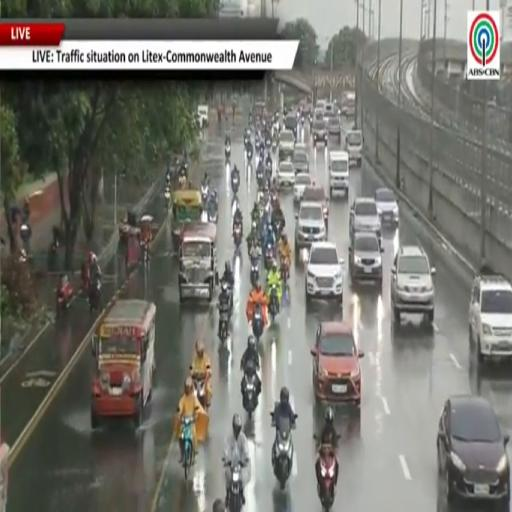car: (437, 395, 510, 510), (311, 322, 363, 405), (469, 272, 511, 362), (391, 246, 435, 325), (305, 242, 344, 302), (349, 232, 383, 287), (295, 201, 326, 254), (349, 198, 381, 243), (302, 184, 329, 228), (329, 151, 349, 198), (375, 188, 399, 227), (345, 131, 363, 166), (294, 173, 312, 202), (277, 160, 295, 186), (312, 120, 328, 147), (279, 131, 294, 159), (292, 149, 309, 173), (328, 115, 341, 140), (284, 115, 297, 140), (197, 105, 208, 127), (295, 142, 308, 153), (316, 100, 326, 113), (314, 109, 323, 120), (325, 103, 333, 114)
jeepney: (91, 299, 156, 428), (179, 222, 218, 302), (173, 189, 202, 251)
motorcycle: (271, 412, 293, 489), (318, 453, 336, 511), (225, 461, 242, 511), (243, 363, 258, 417), (180, 418, 193, 479), (56, 281, 73, 315), (88, 279, 101, 313), (252, 304, 263, 341), (194, 378, 206, 408), (269, 284, 278, 323), (20, 221, 31, 252), (264, 243, 276, 271), (219, 311, 229, 343), (47, 242, 58, 271), (280, 260, 289, 286), (233, 223, 242, 248), (251, 258, 259, 286), (141, 242, 149, 265), (231, 172, 239, 194), (201, 185, 209, 206), (256, 166, 264, 187), (164, 187, 170, 213), (208, 208, 218, 223), (274, 219, 282, 237), (270, 190, 278, 206), (266, 160, 272, 179), (255, 136, 261, 152), (225, 143, 230, 161), (247, 147, 253, 161), (259, 146, 264, 162), (265, 137, 271, 149), (272, 138, 277, 151), (244, 136, 249, 149), (248, 114, 253, 125), (247, 163, 252, 174), (301, 114, 305, 125)
